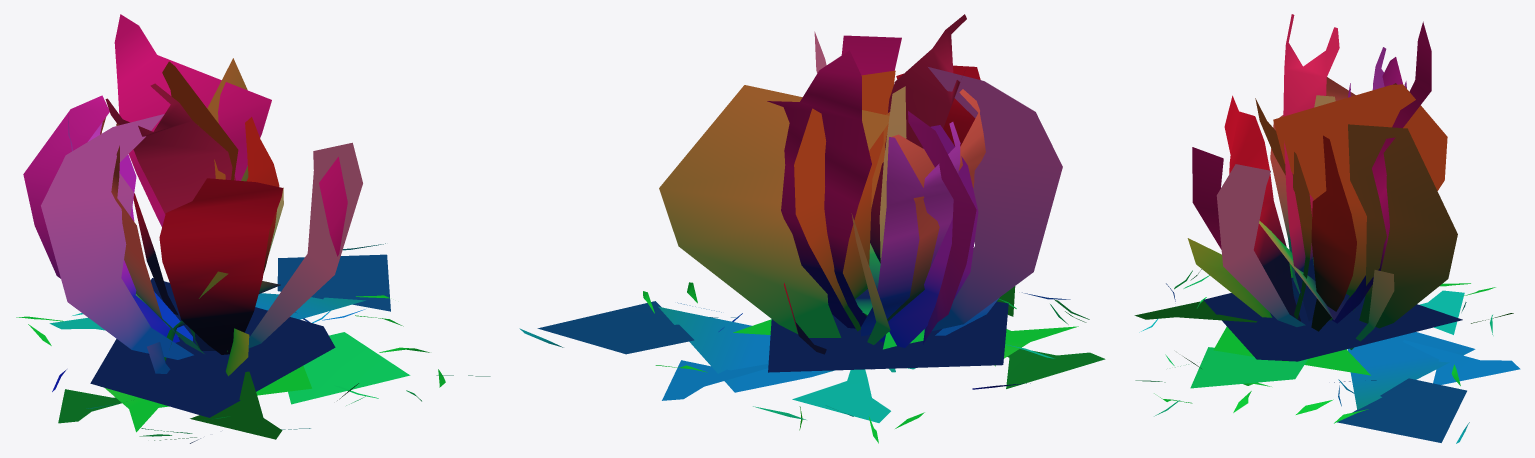
Rendered from Dead_Shrubs_vdknafgha_Low_vdknafgha_VarF_LOD1.fbx.
3 views of the same model, side by side, from view 1: azimuth 30°, elevation 25°; view 2: azimuth 150°, elevation 25°; view 3: azimuth 270°, elevation 25° (orthographic). The views are drawn at different scales.
Parts seen in each view (by area): view 1: _59ax_VarF_LOD2; view 2: _59ax_VarF_LOD2; view 3: _59ax_VarF_LOD2.
Part boxes in pixels (bbox=[...]): _59ax_VarF_LOD2: bbox=[16, 14, 490, 443]; _59ax_VarF_LOD2: bbox=[519, 14, 1105, 443]; _59ax_VarF_LOD2: bbox=[1134, 14, 1520, 443].
Size of the model in its own units: 72.51 by 52.57 by 59.66.
